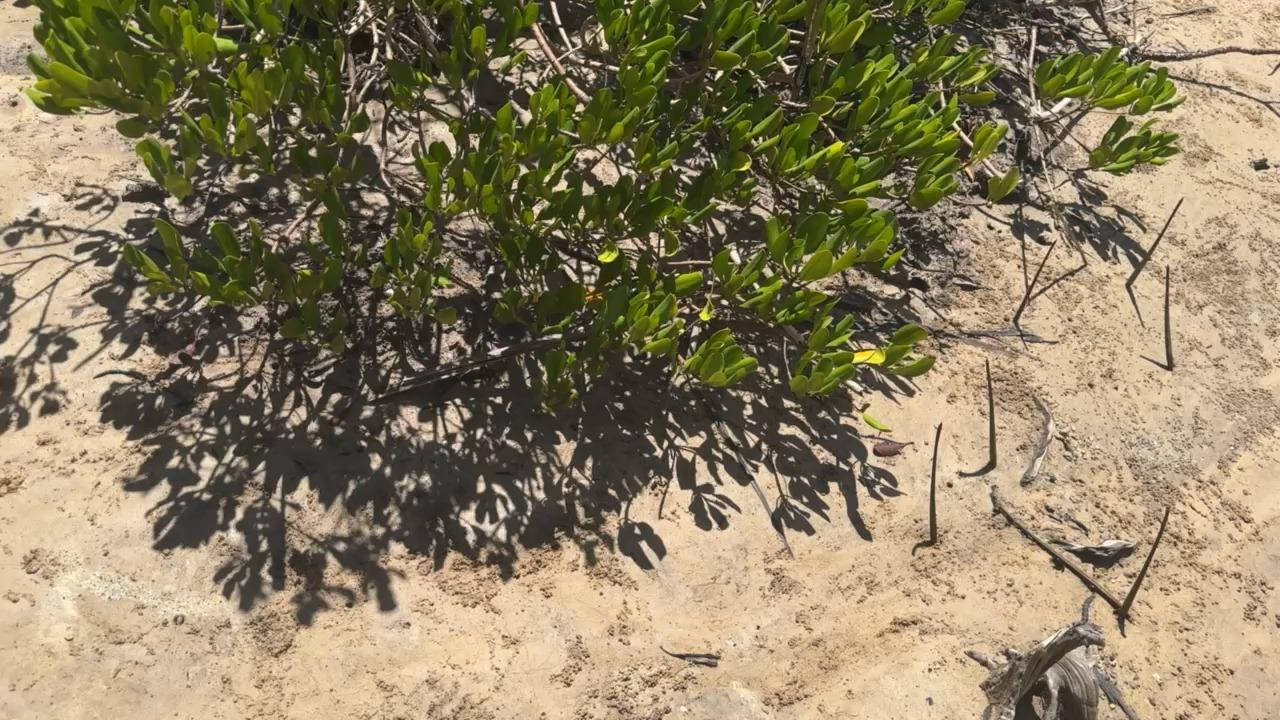Tree: (1117, 504, 1171, 624), (1125, 197, 1186, 289), (1013, 240, 1059, 323), (929, 421, 945, 544), (983, 357, 998, 469), (1162, 264, 1177, 372), (1060, 211, 1088, 267)
